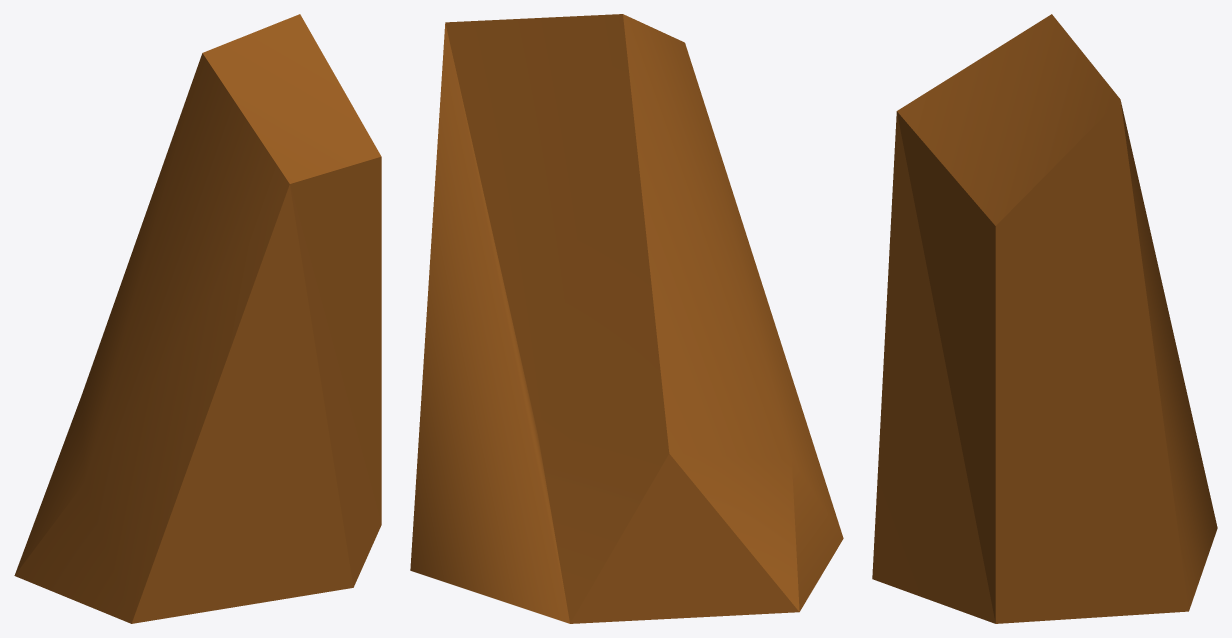
The model's file is Rock_Large_Dirt_01.fbx.
3 renders of one model, left to right at view 1: azimuth 30°, elevation 25°; view 2: azimuth 150°, elevation 25°; view 3: azimuth 270°, elevation 25°, orthographic. The views are drawn at different scales.
Parts seen in each view (by area): view 1: Rock_Large_Dirt_01; view 2: Rock_Large_Dirt_01; view 3: Rock_Large_Dirt_01.
Part boxes in pixels (x1,y1,x2,y2): Rock_Large_Dirt_01: (14,14,381,623); Rock_Large_Dirt_01: (410,14,843,623); Rock_Large_Dirt_01: (872,14,1217,623).
Size of the model in its own units: 69.32 by 107 by 58.71.
